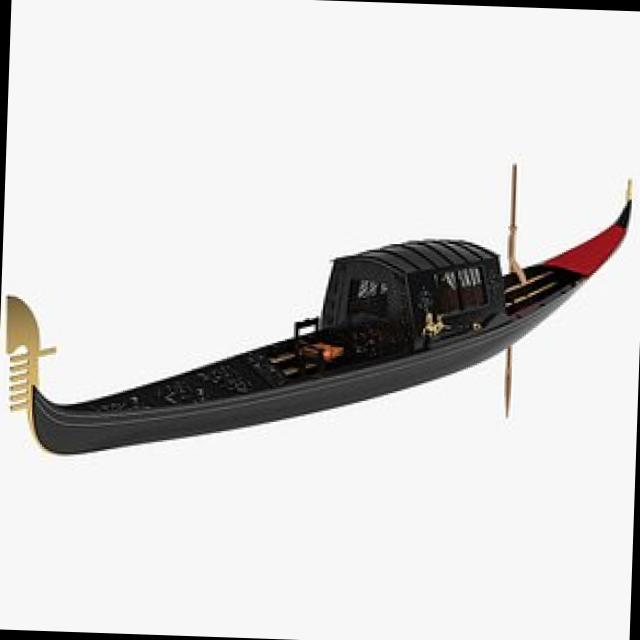boat: (0, 146, 640, 484)
